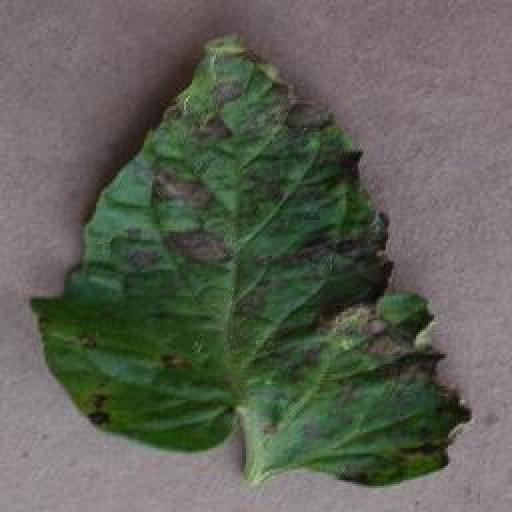disease_tomato: (29, 33, 472, 488)
